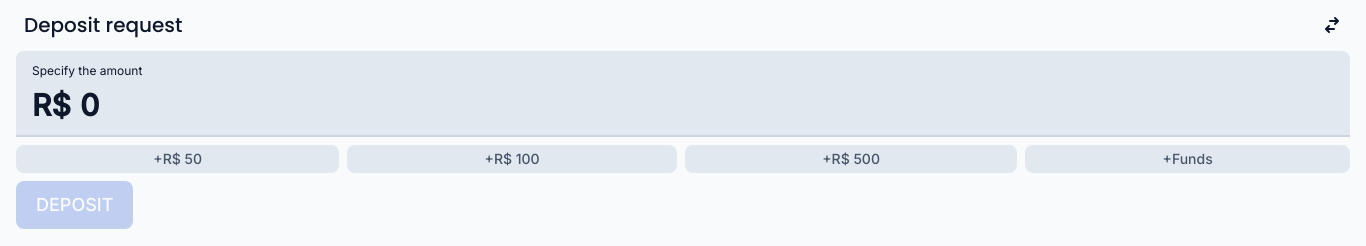
Test: FundsInput › should increase by the funds amount when the +Funds button is clicked
What coordinates should you click on to do the following:
click the button "+Funds"
I would click on:
 (1188, 159)
Its box is [1025,145,1350,173].
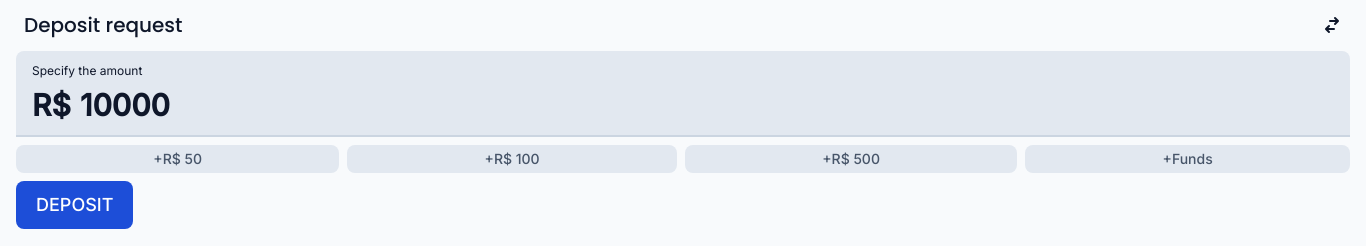
Expected: the number field labelled "Specify the amount" holds "10000", [16,51,1350,137]
